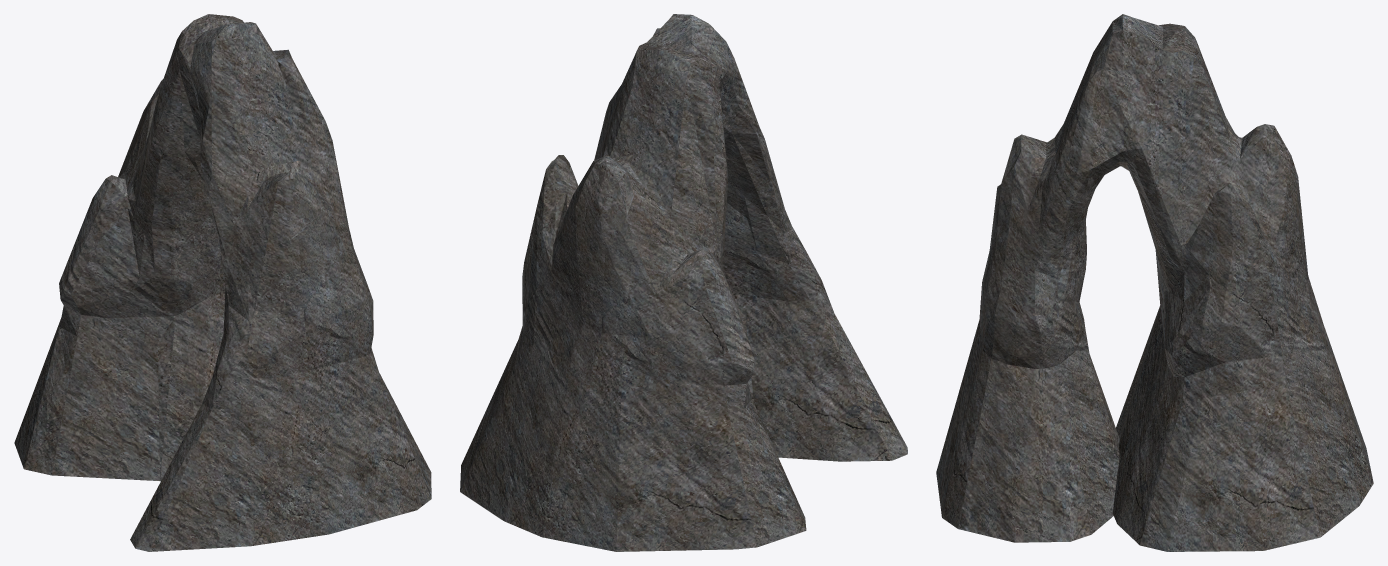
Rendered from animRock.fbx.
3 views of the same model, side by side, from view 1: azimuth 30°, elevation 25°; view 2: azimuth 150°, elevation 25°; view 3: azimuth 270°, elevation 25° (orthographic). The views are drawn at different scales.
Visible parts, largest first — view 1: Mesh_0028; view 2: Mesh_0028; view 3: Mesh_0028.
Part boxes in pixels (box(x1,y1,x2,y2)): Mesh_0028: box(14, 14, 431, 551); Mesh_0028: box(460, 14, 907, 551); Mesh_0028: box(936, 14, 1373, 551).
Size of the model in its own units: 788 by 1015 by 885.
